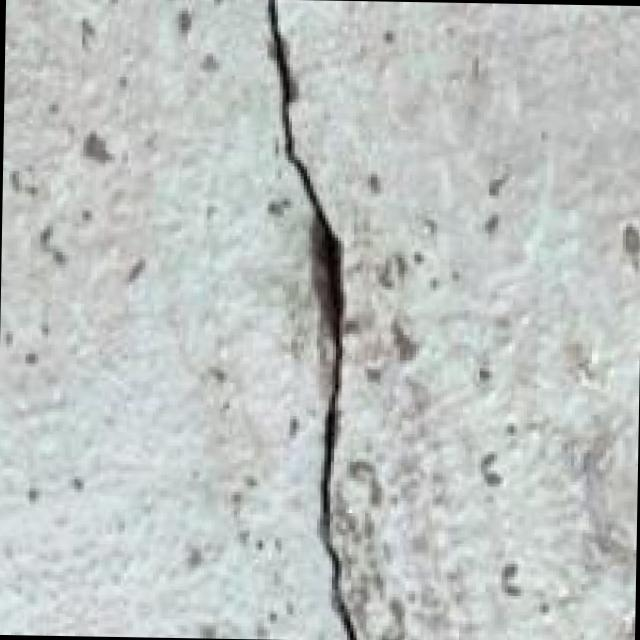crack: (221, 0, 418, 638)
